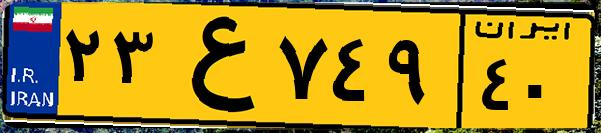0: (525, 38, 570, 115)
2: (57, 26, 110, 100)
3: (110, 28, 158, 98)
4: (330, 28, 385, 110), (475, 38, 525, 113)
7: (270, 28, 330, 110)
9: (385, 28, 445, 110)
ع: (158, 12, 270, 120)
